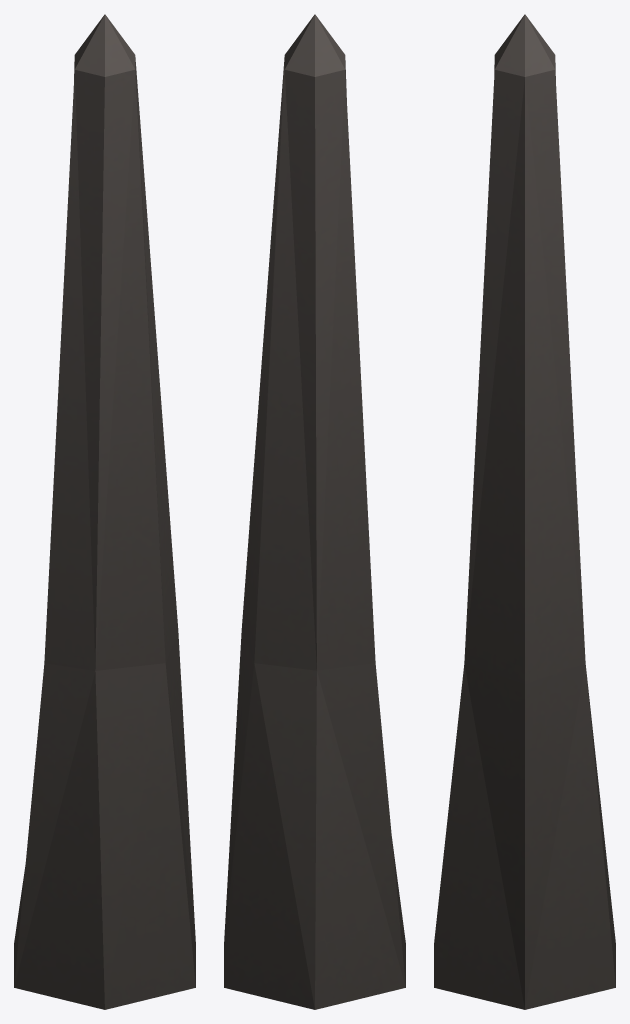
The model's file is Stal_10A.fbx.
3 renders of one model, left to right at view 1: azimuth 30°, elevation 25°; view 2: azimuth 150°, elevation 25°; view 3: azimuth 270°, elevation 25°, orthographic.
Visible parts, largest first — view 1: pCone20; view 2: pCone20; view 3: pCone20.
Part boxes in pixels (x1=…): pCone20: x1=14, y1=14, x2=195, y2=1009; pCone20: x1=224, y1=14, x2=405, y2=1009; pCone20: x1=434, y1=14, x2=615, y2=1009.
Bounding box in the file's own units: 200 × 1000 × 173.
Materials: 1 (1 with a texture image).
